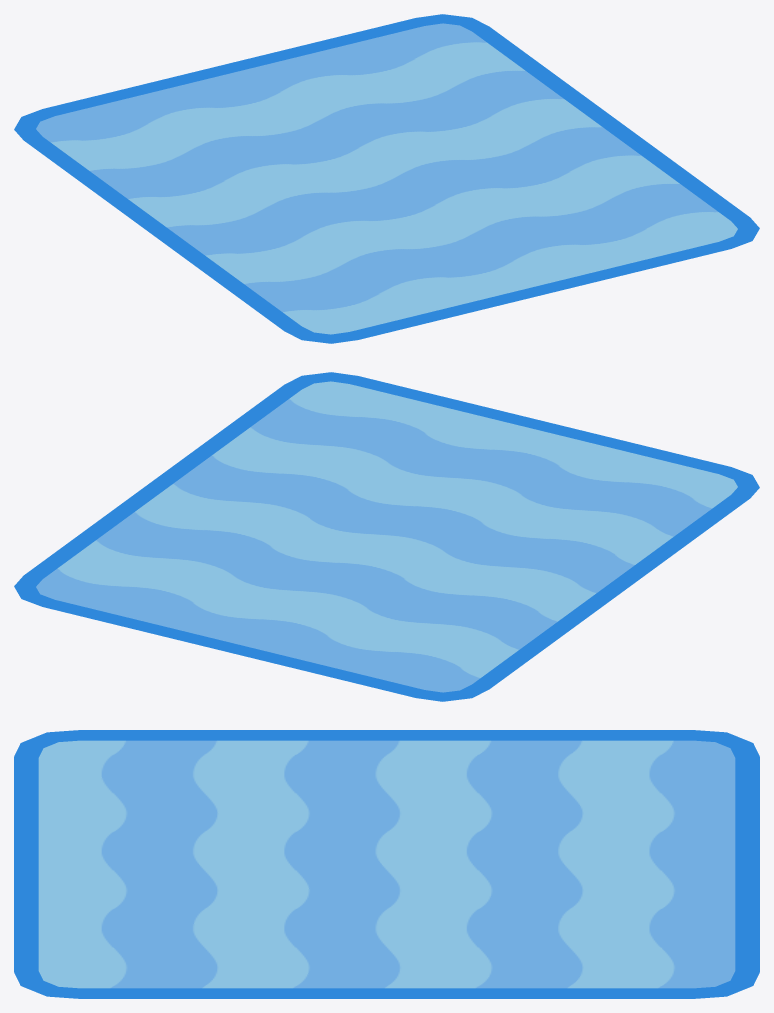
Rendered from CarpetA1_geo.fbx.
The picture shows the model from 3 angles, top to bottom: view 1: azimuth 30°, elevation 25°; view 2: azimuth 150°, elevation 25°; view 3: azimuth 270°, elevation 25°; orthographic projection. The views are drawn at different scales.
Visible parts, largest first — view 1: CarpetA1_geo; view 2: CarpetA1_geo; view 3: CarpetA1_geo.
Part boxes in pixels (box(x1,y1,x2,y2)): CarpetA1_geo: box(14, 14, 759, 343); CarpetA1_geo: box(14, 372, 759, 701); CarpetA1_geo: box(14, 730, 759, 998).
Bounding box in the file's own units: 2.98 × 3.5 × 2.33e-10.
